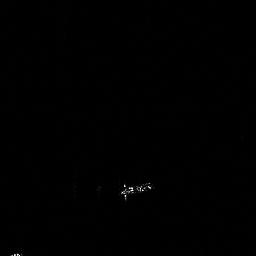ship: (117, 177, 156, 203)
